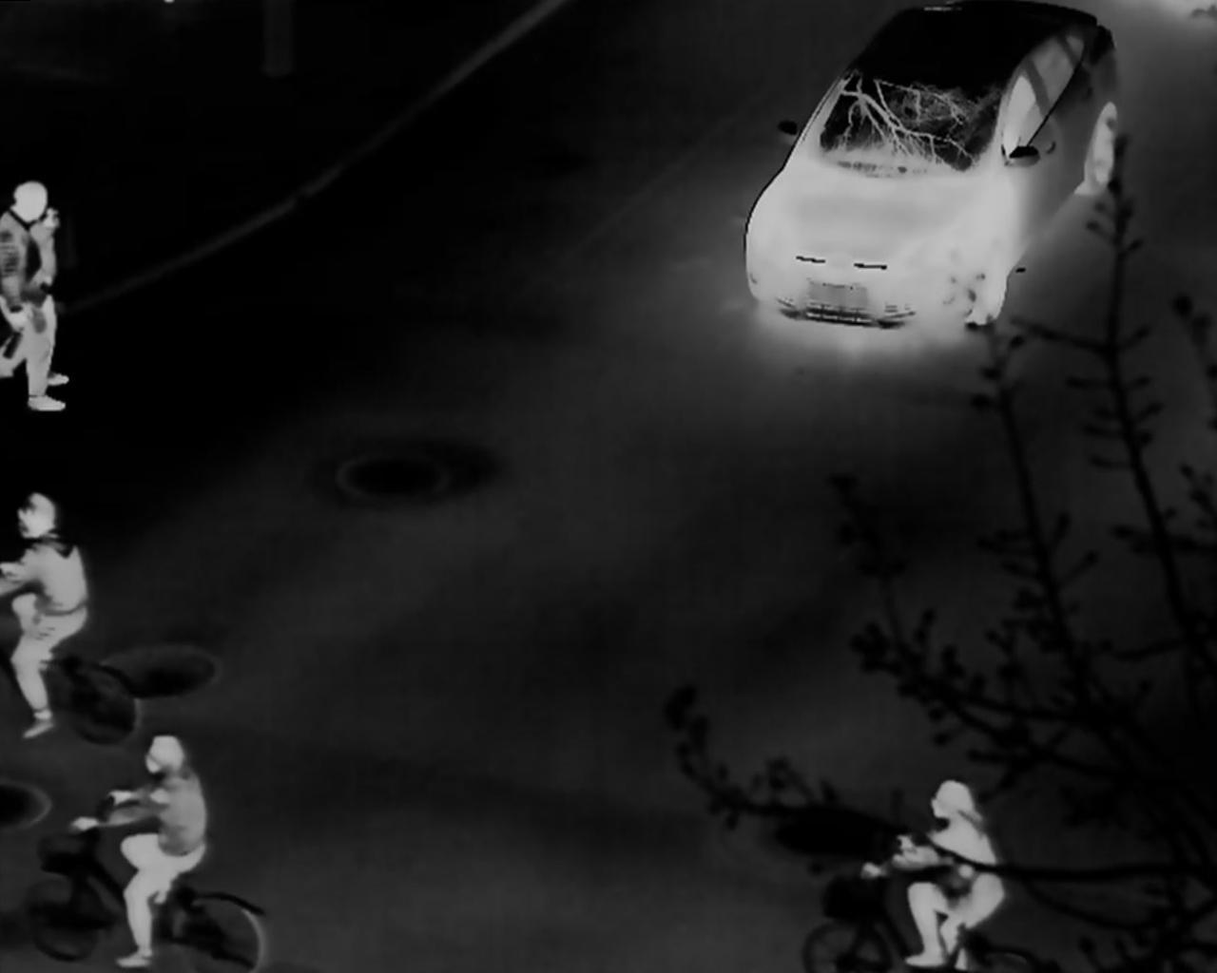person: (69, 734, 208, 968), (859, 777, 1006, 973), (2, 490, 89, 739), (3, 180, 66, 413)
